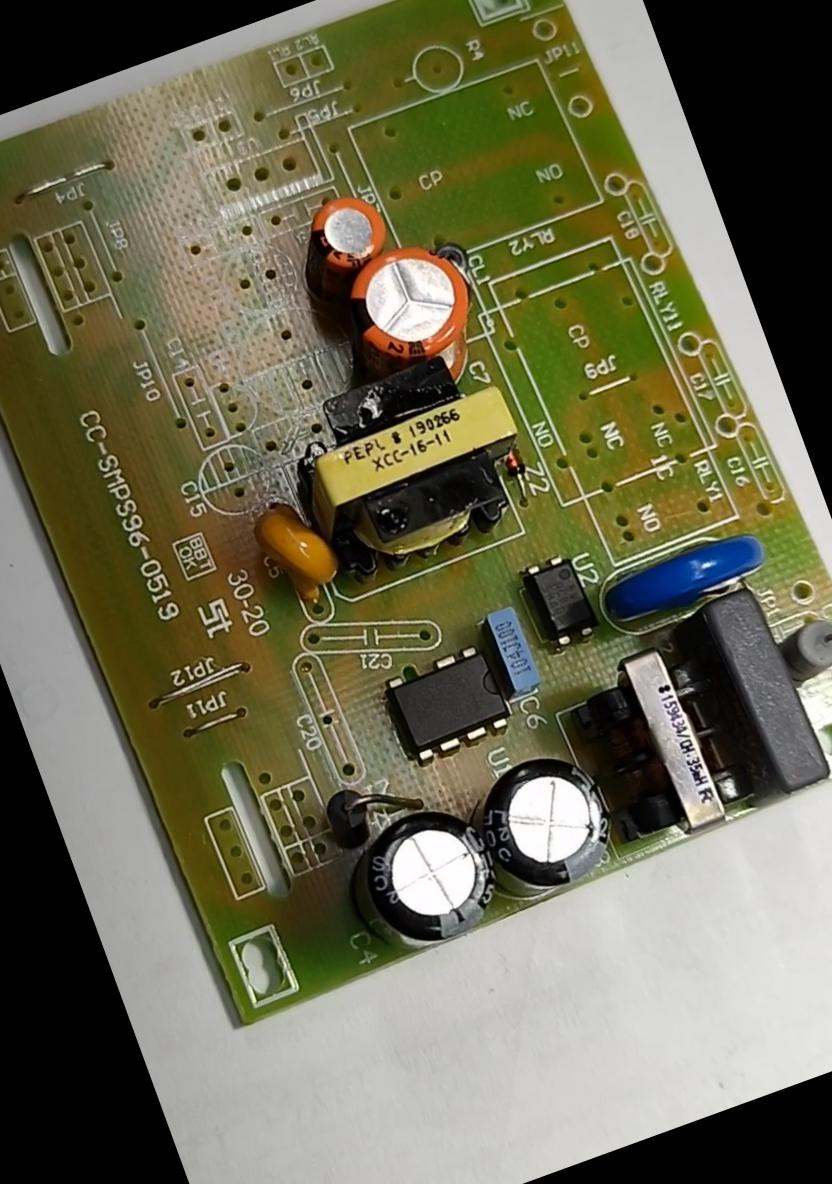Cap1: (330, 229, 484, 378)
Cap2: (282, 184, 394, 283)
Cap3: (469, 736, 632, 906)
Cap4: (344, 795, 516, 962)
MOSFET: (378, 638, 516, 768)
Mov: (588, 520, 773, 633)
Resistor: (770, 603, 831, 689)
Transformer: (272, 335, 548, 589), (572, 633, 758, 852)
